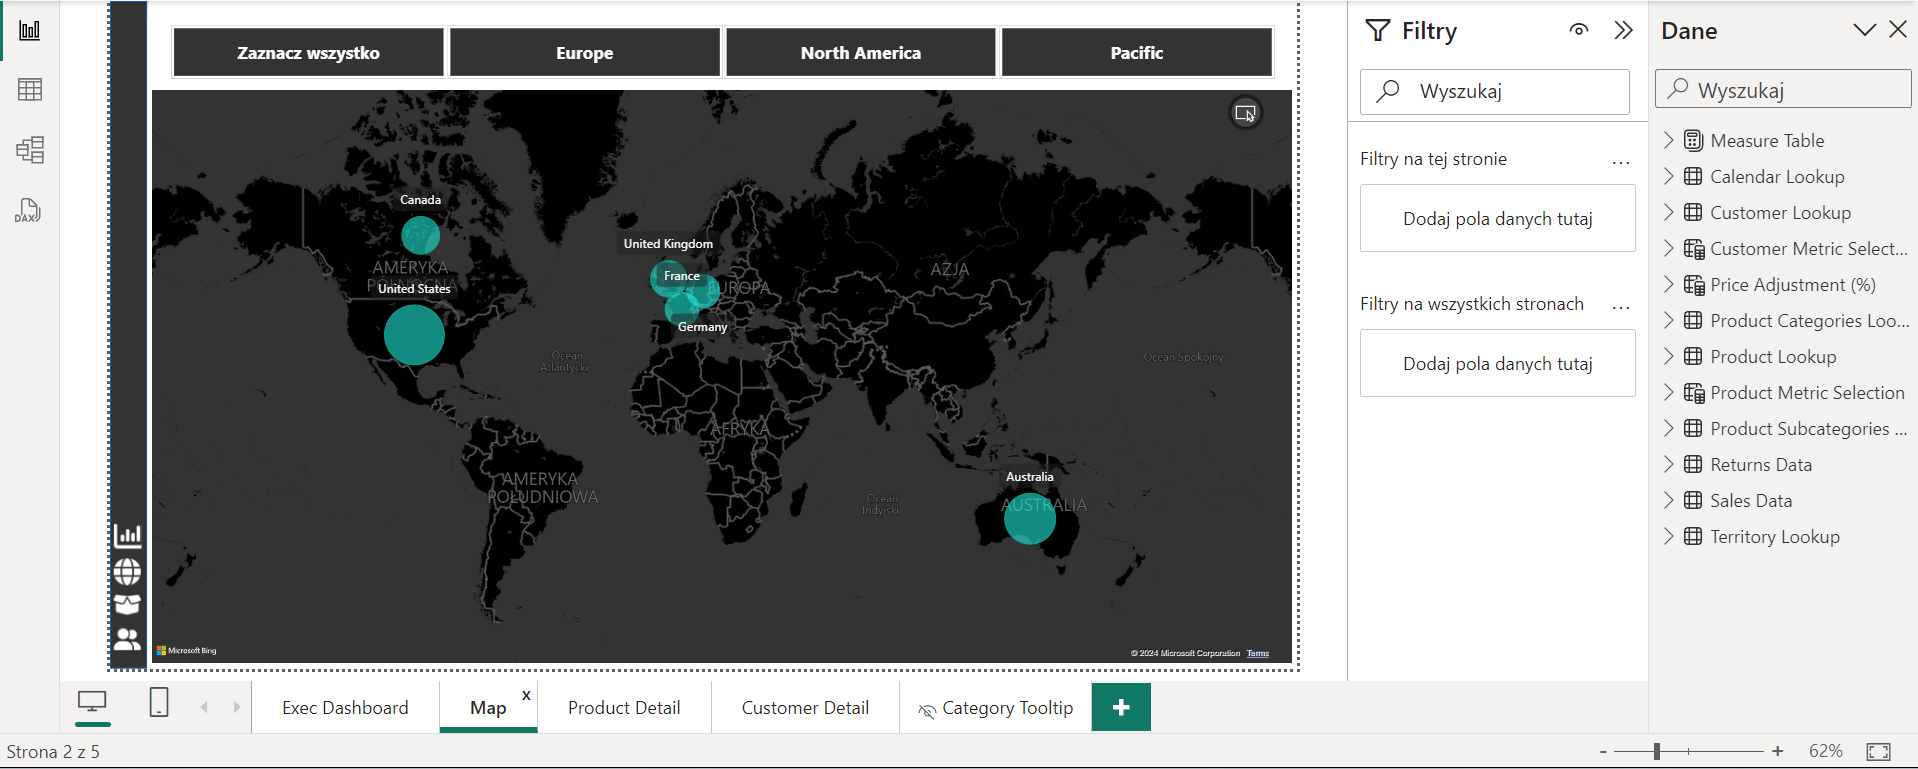

The page's visual inventory and layout, read from the dashboard file:
{"tool":"powerbi","page":{"name":"Map","canvas":[1280,720],"ordinal":1},"visuals":[{"type":"shape","box":[0,0,40,720],"z":0},{"type":"actionButton","title":"Exec Button","box":[0,558.3,41.7,38.3],"z":0,"group":"g1"},{"type":"actionButton","title":"Product Button","box":[0.6,633.4,40.4,37.2],"z":1000,"group":"g1"},{"type":"map","fields":{"Category":["Territory Lookup.Country"],"Size":["Measure Table.Total Orders"]},"box":[40.4,90.6,1239.4,629.4],"z":1000},{"type":"slicer","fields":{"Values":["Territory Lookup.Continent"]},"box":[40.4,19.4,1239.4,71.2],"z":2000},{"type":"actionButton","title":"Customer Button","box":[0.6,669.8,40.4,37.2],"z":2000,"group":"g1"},{"type":"actionButton","title":"Map Button","box":[0.6,597,40.4,37.2],"z":3000,"group":"g1"},{"type":"group","id":"g1","title":"Navigation Button","box":[0,558.3,41.7,148.7],"z":3000}]}

Visuals, with their boxes on the page's 1280x720 design canvas (x1, y1, x2, y2). These are canvas units, not pixel positions in the 1918x769 screenshot, which may show the page scaled, cropped or inside an application window:
shape: x1=0 y1=0 x2=40 y2=720
"Exec Button" actionButton: x1=0 y1=558 x2=42 y2=597
"Product Button" actionButton: x1=1 y1=633 x2=41 y2=671
map - Territory Lookup.Country x Measure Table.Total Orders: x1=40 y1=91 x2=1280 y2=720
slicer - Territory Lookup.Continent: x1=40 y1=19 x2=1280 y2=91
"Customer Button" actionButton: x1=1 y1=670 x2=41 y2=707
"Map Button" actionButton: x1=1 y1=597 x2=41 y2=634
"Navigation Button" group: x1=0 y1=558 x2=42 y2=707
